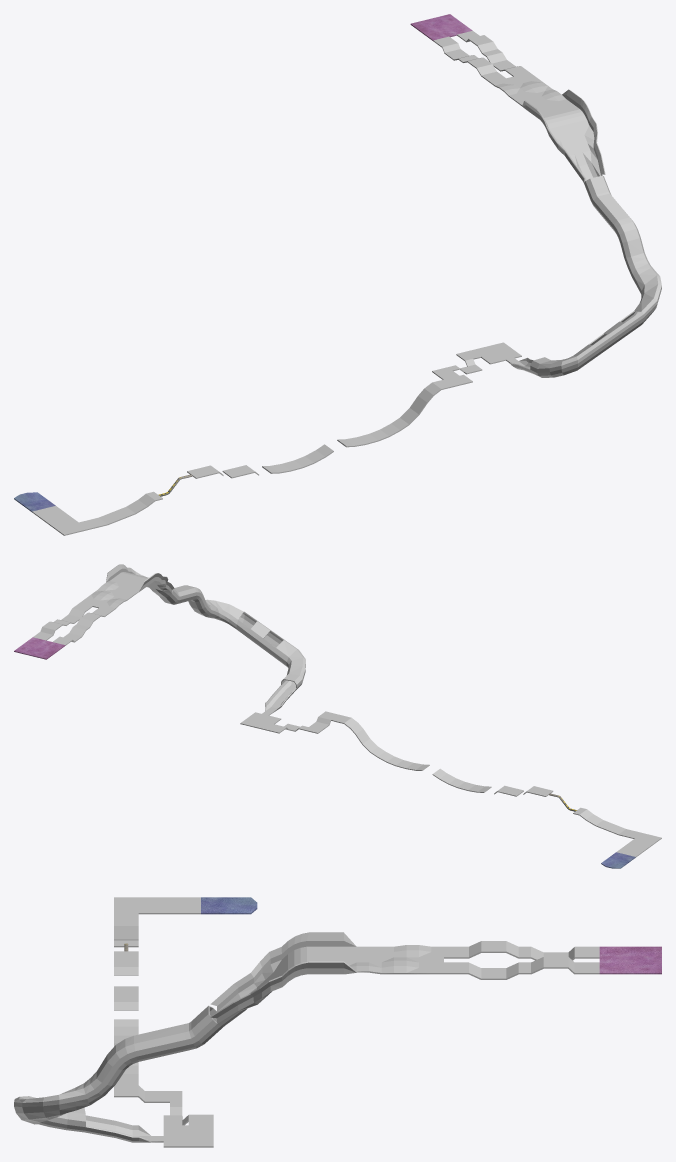
File: level8.dae
3 views of the same model, one above another, from view 1: azimuth 30°, elevation 25°; view 2: azimuth 150°, elevation 25°; view 3: azimuth 270°, elevation 25° (orthographic). The views are drawn at different scales.
Visible parts, largest first — view 1: Plane; view 2: Plane; view 3: Plane.
Boxes of the visible parts, left/top/right/bottom form: Plane: left=14, top=14, right=661, bottom=535; Plane: left=14, top=564, right=661, bottom=868; Plane: left=14, top=897, right=661, bottom=1147.
Size of what is drawn, in the model's own units: 149 by 104 by 58.28.
